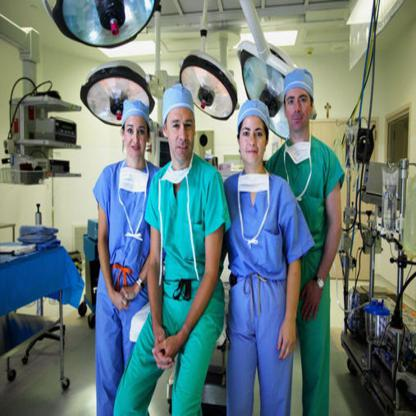face: (168, 103, 196, 164), (240, 116, 265, 163), (125, 112, 149, 158), (288, 85, 310, 135)
